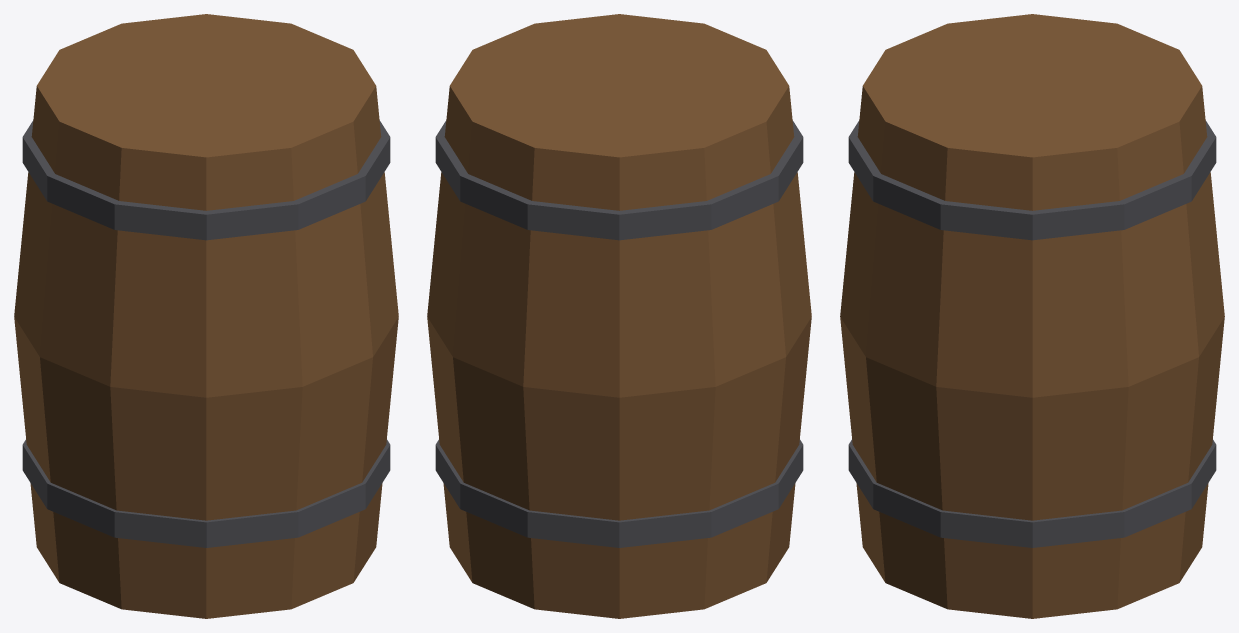
File: Yard_Barrel.obj
3 views of the same model, side by side, from view 1: azimuth 30°, elevation 25°; view 2: azimuth 150°, elevation 25°; view 3: azimuth 270°, elevation 25° (orthographic).
Visible parts, largest first — view 1: Yard_Barrel; view 2: Yard_Barrel; view 3: Yard_Barrel.
Part boxes in pixels (<box>): Yard_Barrel: <box>14,14,398,618</box>; Yard_Barrel: <box>427,14,811,618</box>; Yard_Barrel: <box>840,14,1224,618</box>.
Bounding box in the file's own units: 0.68 × 0.9 × 0.68.
